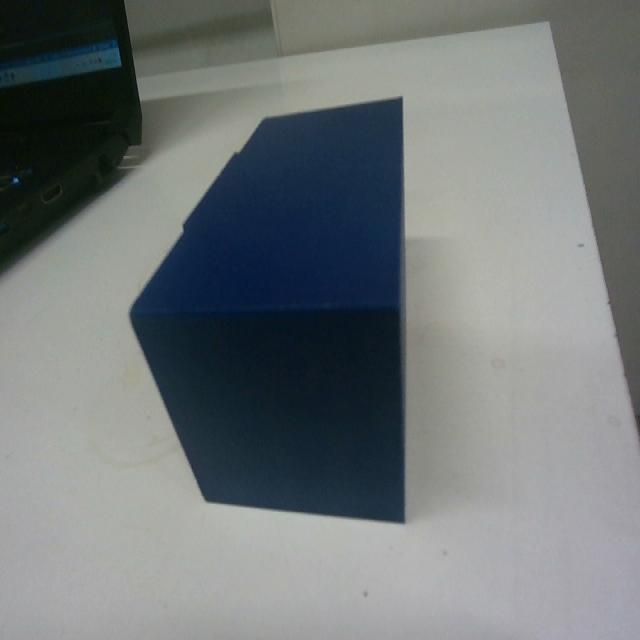Blue Cuboid: (128, 92, 411, 524)
